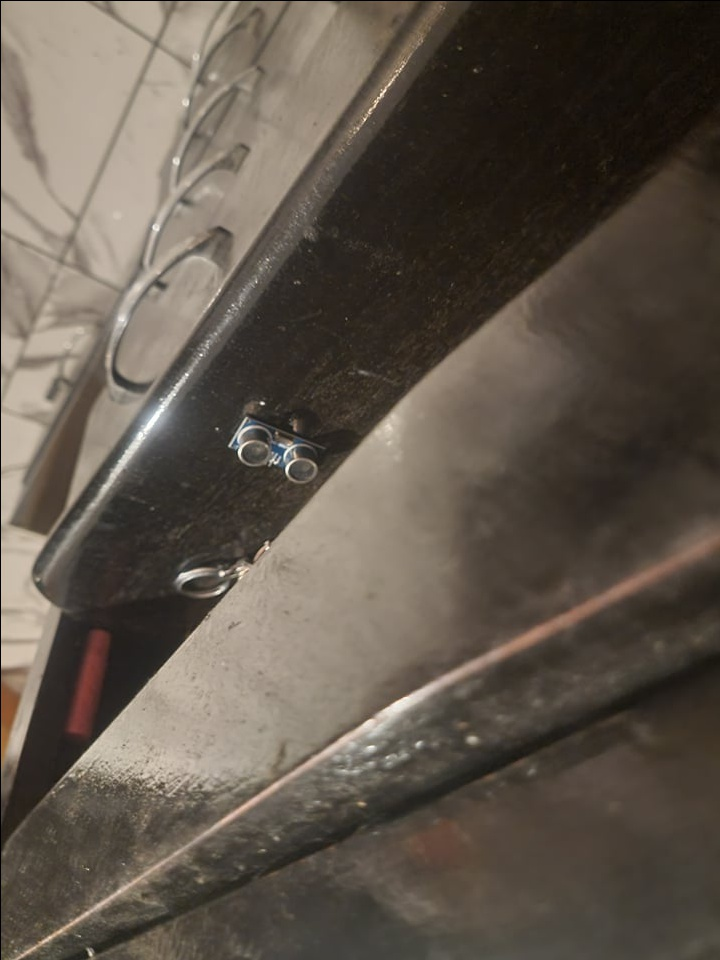SENSOR: (225, 415, 326, 485)
